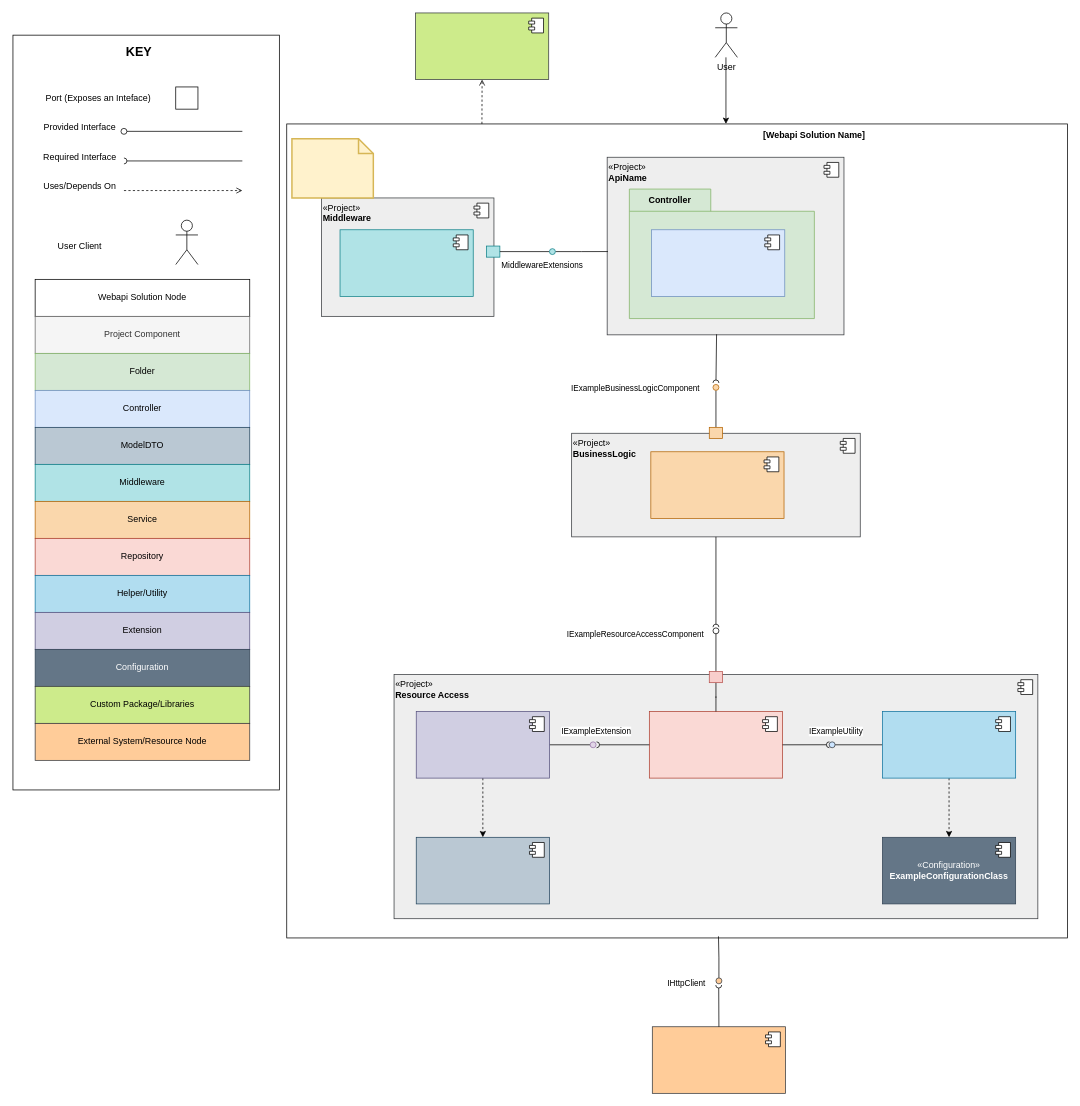
This 1080x1106 diagram has some shape labels left out. Each missing label, with the centre of its shape:
Example Note: [332,168]
«Controller» ExampleController: [718,262]
«Extension» ExampleExtension: [482,744]
«Middleware» ExampleMiddleware: [406,262]
«Models» ExampleModel: [482,870]
«Packages» [Package Name]: [482,46]
«Repository» ExampleRepositoryAccess Component: [716,744]
«Resource» Example External Resource: [719,1059]
«Service» ExampleBusinessLogic Component: [717,484]
«Utility» ExampleUtility: [949,744]
